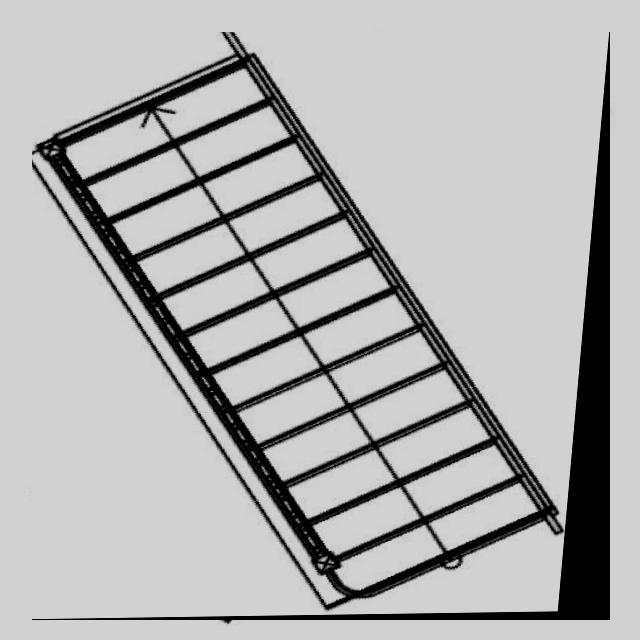stair: (32, 32, 610, 620)
